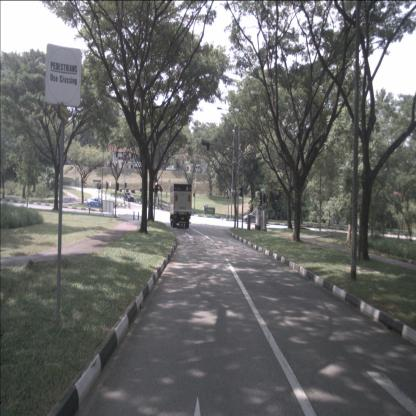vehicle-car: (243, 210, 268, 224), (86, 198, 105, 209), (124, 192, 134, 202), (166, 165, 176, 172), (134, 161, 143, 168)
vehicle-truck: (170, 183, 192, 228)
